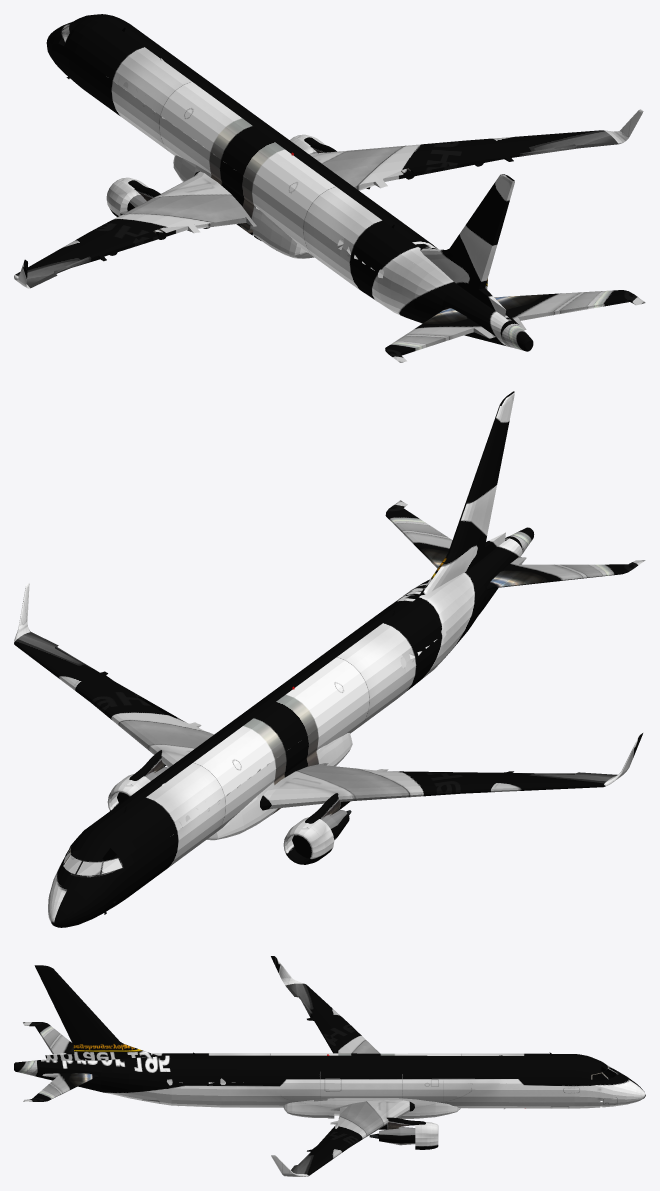
Rendered from erj195.obj.
The picture shows the model from 3 angles, top to bottom: view 1: azimuth 30°, elevation 25°; view 2: azimuth 150°, elevation 25°; view 3: azimuth 270°, elevation 25°; orthographic projection. The views are drawn at different scales.
Size of the model in its own units: 28.2 by 10.22 by 37.83.
5 materials, 4 textured.
